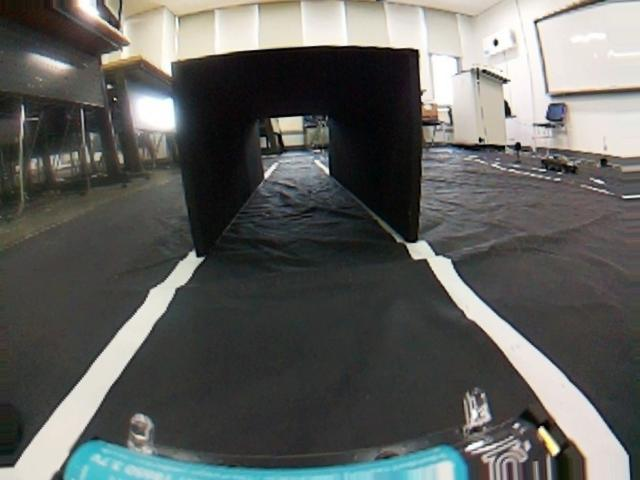straight: (0, 200, 636, 480)
